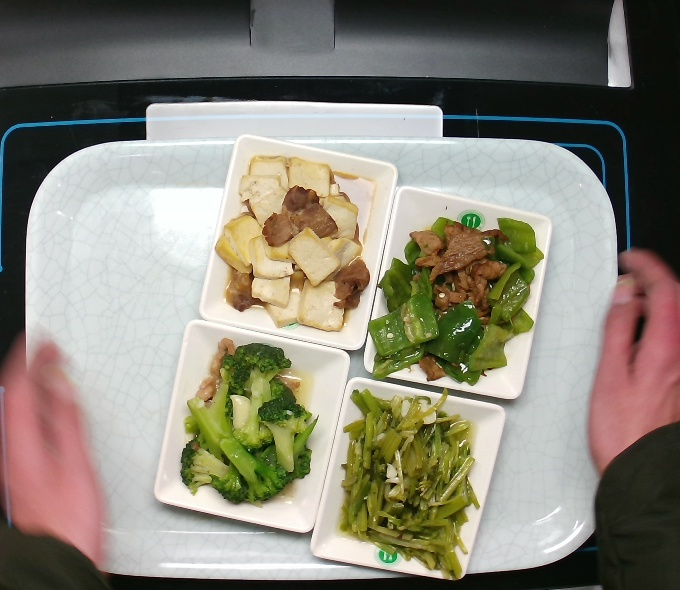wcq-DouFuRouPian: (205, 151, 378, 341)
wcq-QinCai: (329, 383, 485, 588)
wcq-QingJiaoChaoRou: (371, 213, 533, 378)
wcq-XiLanHua: (168, 331, 321, 497)
